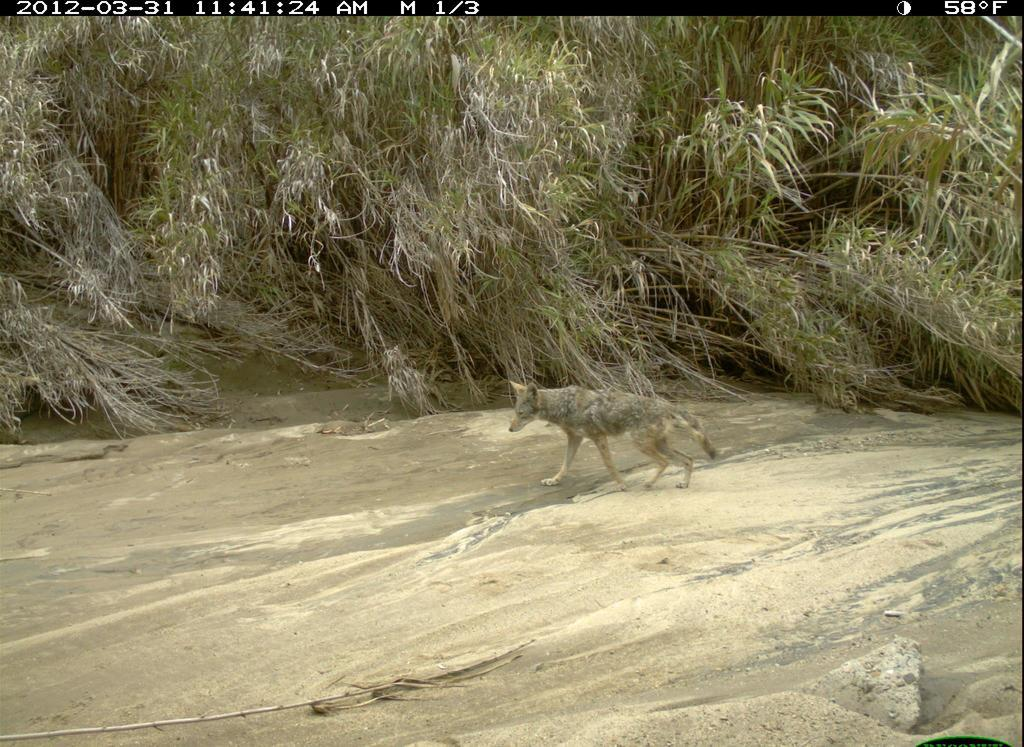coyote: (501, 372, 726, 500)
